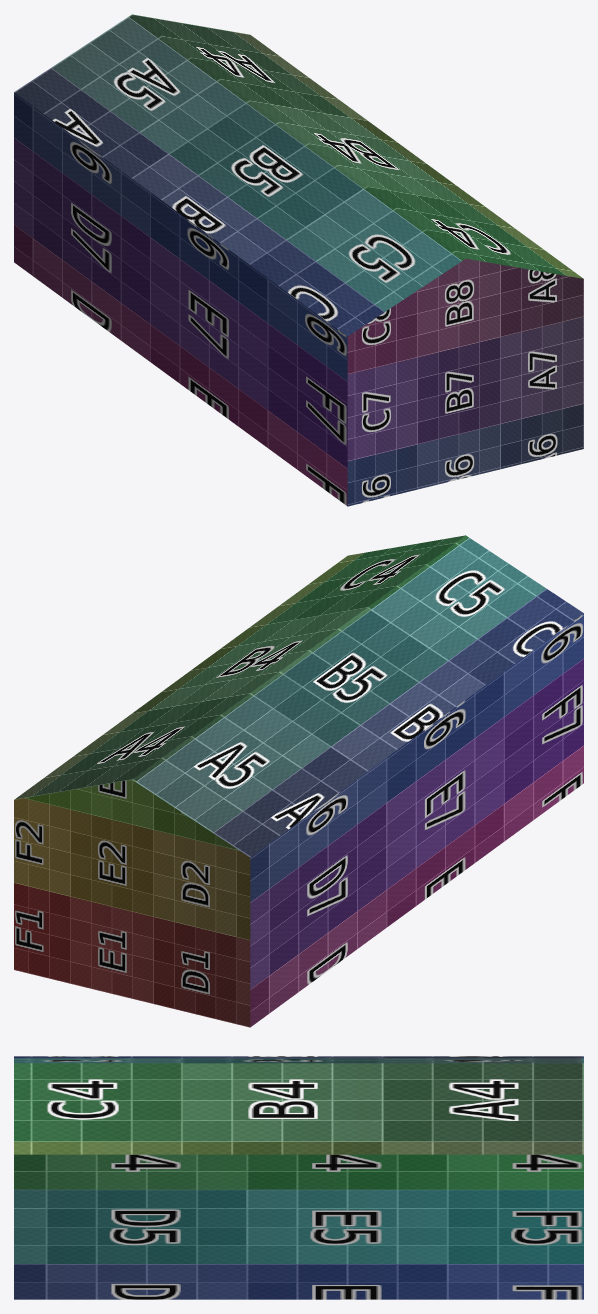
Rendered from house_e.gltf.
The picture shows the model from 3 angles, top to bottom: view 1: azimuth 30°, elevation 25°; view 2: azimuth 150°, elevation 25°; view 3: azimuth 270°, elevation 25°; orthographic projection. The views are drawn at different scales.
Parts seen in each view (by area): view 1: HouseA-col; view 2: HouseA-col; view 3: HouseA-col.
Boxes of the visible parts, x1=… form: HouseA-col: x1=14, y1=14, x2=583, y2=506; HouseA-col: x1=14, y1=535, x2=583, y2=1027; HouseA-col: x1=14, y1=1056, x2=583, y2=1299.
Size of the model in its own units: 20 by 17.73 by 48.94.
Materials: 1 (1 with a texture image).
